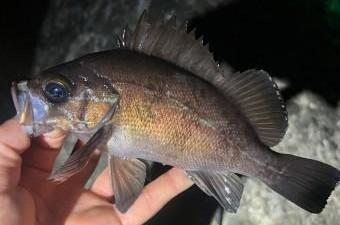fish: (11, 8, 339, 214)
